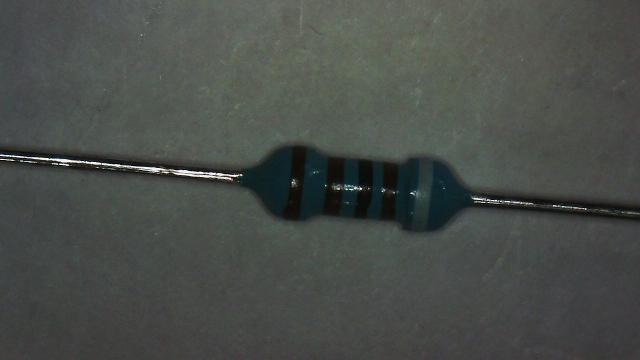black: (354, 160, 373, 218)
brown: (283, 146, 306, 219), (324, 157, 344, 215), (380, 162, 398, 220)
resistor: (240, 123, 477, 252)
white: (415, 159, 436, 230)
